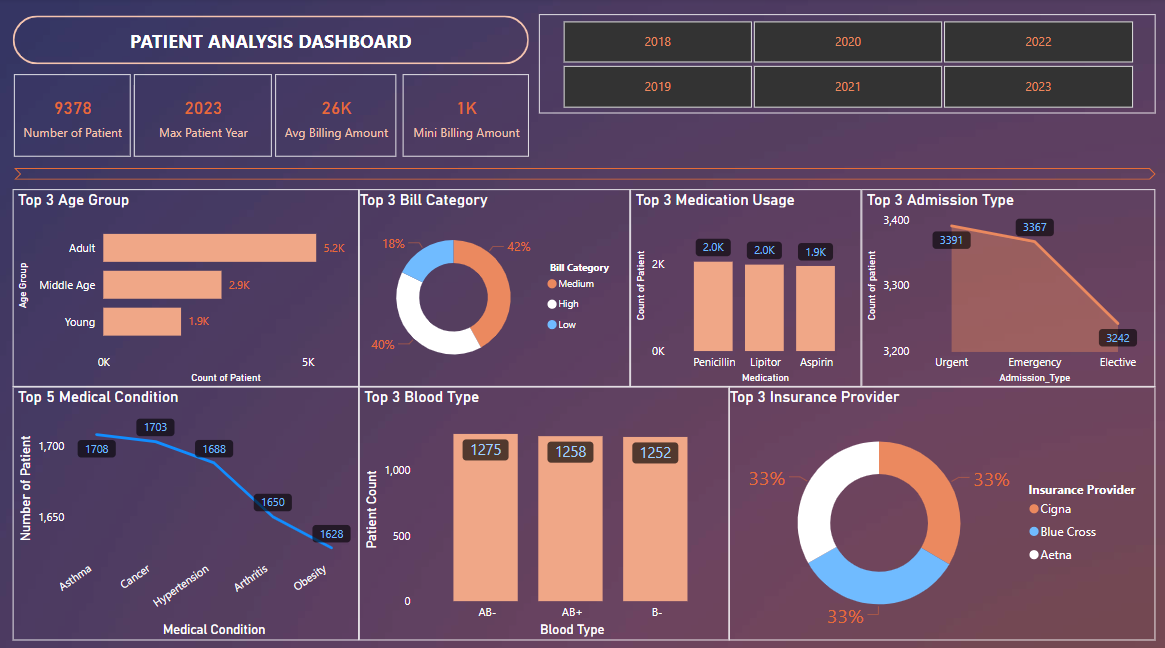

Layout of this report page (visuals, bound fields, positions):
{"tool":"powerbi","page":{"name":"Patient Analysis DashBoard","canvas":[1280,720],"ordinal":1},"visuals":[{"type":"shape","box":[15.1,19.2,566.7,53.5],"z":0},{"type":"card","fields":{"Values":["Count(HealthCare_Cleaned_DataSet.Name)"]},"box":[16.5,83.7,127.6,90.6],"z":1000},{"type":"card","fields":{"Values":["Avg(HealthCare_Cleaned_DataSet.Billing_Amount)"]},"box":[303.3,83.7,133.1,90.6],"z":2000},{"type":"card","fields":{"Values":["Max(HealthCare_Cleaned_DataSet.Date_of_Admission.Variation.Date Hierarchy.Year)"]},"box":[148.2,83.7,150.9,90.6],"z":3000},{"type":"card","fields":{"Values":["Min(HealthCare_Cleaned_DataSet.Billing_Amount)"]},"box":[443.2,83.7,138.6,90.6],"z":4000},{"type":"shape","box":[16.1,187.1,1253.2,12.9],"z":5000},{"type":"barChart","title":"   Top 3 Age Group","fields":{"Y":["CountNonNull(HealthCare_Cleaned_DataSet.Name)"],"Category":["HealthCare_Cleaned_DataSet.Age_Group"]},"box":[15.1,209.9,380.1,216.8],"z":6000},{"type":"donutChart","title":"Top 3 Bill Category ","fields":{"Y":["CountNonNull(HealthCare_Cleaned_DataSet.Name)"],"Category":["HealthCare_Cleaned_DataSet.Bill_Category"]},"box":[395.2,209.9,297.8,216.8],"z":7000},{"type":"lineStackedColumnComboChart","title":"Top 3 Blood Type","fields":{"Category":["HealthCare_Cleaned_DataSet.Blood_Type"],"Y":["CountNonNull(HealthCare_Cleaned_DataSet.Name)"]},"box":[395.2,426.8,406.2,278.6],"z":8000},{"type":"columnChart","title":"Top 3 Medication Usage","fields":{"Category":["HealthCare_Cleaned_DataSet.Medication"],"Y":["Count(HealthCare_Cleaned_DataSet.Name)"]},"box":[693,209.9,253.9,216.8],"z":9000},{"type":"lineStackedColumnComboChart","title":" Top 5  Medical Condition","fields":{"Y2":["CountNonNull(HealthCare_Cleaned_DataSet.Name)"],"Category":["HealthCare_Cleaned_DataSet.Medical_Condition"]},"box":[15.1,426.8,380.1,278.6],"z":10000},{"type":"slicer","fields":{"Values":["HealthCare_Cleaned_DataSet.Admit_Year"]},"box":[592.8,17.8,676.5,108.4],"z":11000},{"type":"donutChart","title":"Top 3 Insurance Provider","fields":{"Category":["HealthCare_Cleaned_DataSet.Insurance_Provider"],"Y":["CountNonNull(HealthCare_Cleaned_DataSet.Name)"]},"box":[801.4,426.8,467.9,278.6],"z":12000},{"type":"areaChart","title":"Top 3 Admission Type","fields":{"Category":["HealthCare_Cleaned_DataSet.Admission_Type"],"Y":["CountNonNull(HealthCare_Cleaned_DataSet.Name)"]},"box":[946.8,209.9,322.5,216.8],"z":13000}]}

Visuals, with their boxes in screenshot pixels (x1, y1, x2, y2), scaled from the page's 1280x720 canvas onto the 1165x648 screenshot:
shape: 14/17/530/65
card - Count(HealthCare_Cleaned_DataSet.Name): 15/75/131/157
card - Avg(HealthCare_Cleaned_DataSet.Billing_Amount): 276/75/397/157
card - Max(HealthCare_Cleaned_DataSet.Date_of_Admission.Variation.Date Hierarchy.Year): 135/75/272/157
card - Min(HealthCare_Cleaned_DataSet.Billing_Amount): 403/75/530/157
shape: 15/168/1155/180
"   Top 3 Age Group" barChart: 14/189/360/384
"Top 3 Bill Category " donutChart: 360/189/631/384
"Top 3 Blood Type" lineStackedColumnComboChart: 360/384/729/635
"Top 3 Medication Usage" columnChart: 631/189/862/384
" Top 5  Medical Condition" lineStackedColumnComboChart: 14/384/360/635
slicer - HealthCare_Cleaned_DataSet.Admit_Year: 540/16/1155/114
"Top 3 Insurance Provider" donutChart: 729/384/1155/635
"Top 3 Admission Type" areaChart: 862/189/1155/384
